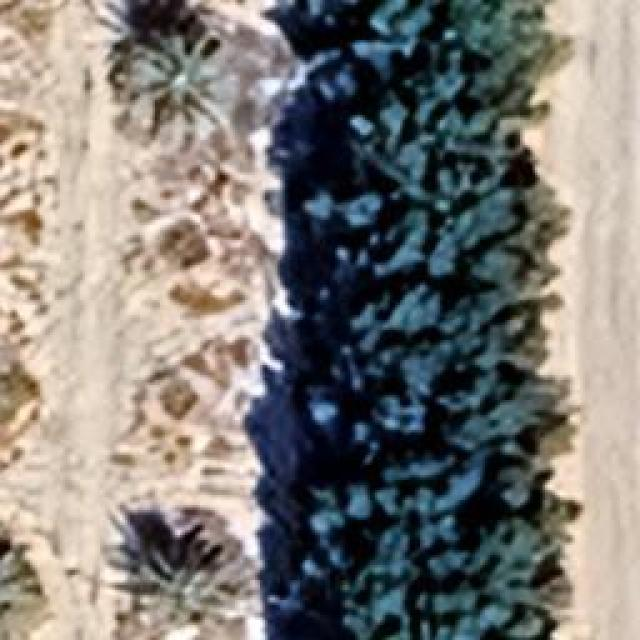PalmTree: (121, 522, 249, 632), (125, 30, 225, 145), (0, 538, 55, 634)
